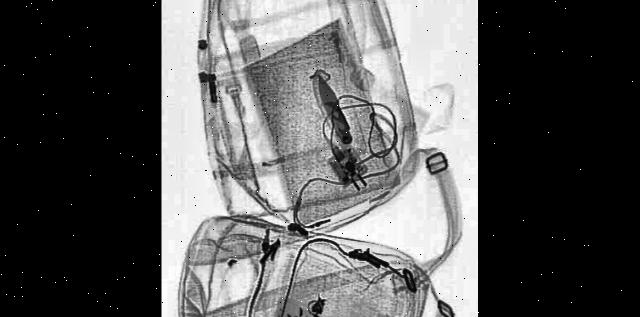Knife: (314, 61, 354, 155)
